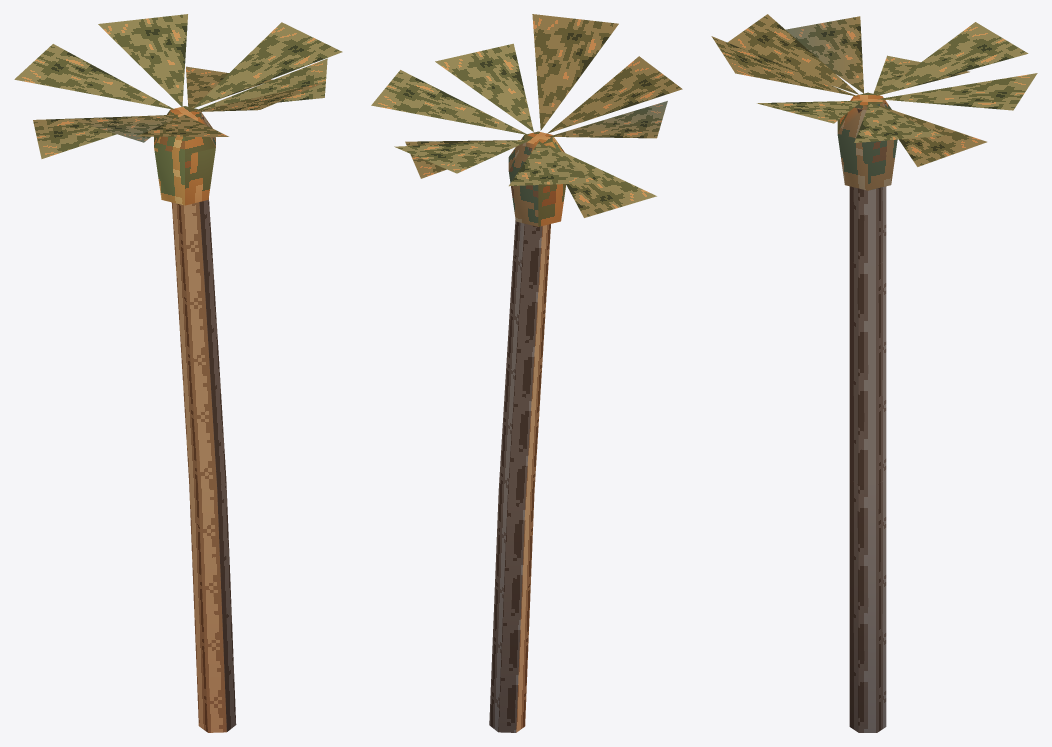
File: wland.palm__tall.glb
3 renders of one model, left to right at view 1: azimuth 30°, elevation 25°; view 2: azimuth 150°, elevation 25°; view 3: azimuth 270°, elevation 25°, orthographic. The views are drawn at different scales.
Visible parts, largest first — view 1: kit_card_fronds_back, kit_trunks, kit_skirts; view 2: kit_card_fronds_back, kit_trunks, kit_skirts; view 3: kit_card_fronds_back, kit_trunks, kit_skirts.
Boxes of the visible parts, box(x1,y1,x2,y2) form: kit_card_fronds_back: box(14, 14, 342, 158); kit_trunks: box(171, 114, 236, 732); kit_skirts: box(154, 106, 215, 205); kit_card_fronds_back: box(371, 14, 682, 217); kit_trunks: box(489, 142, 556, 732); kit_skirts: box(508, 131, 566, 226); kit_card_fronds_back: box(711, 14, 1037, 166); kit_trunks: box(849, 103, 886, 732); kit_skirts: box(837, 92, 897, 190).
Size of the model in its own units: 3.86 by 8.87 by 3.9.
Materials: 3 (3 with a texture image).
